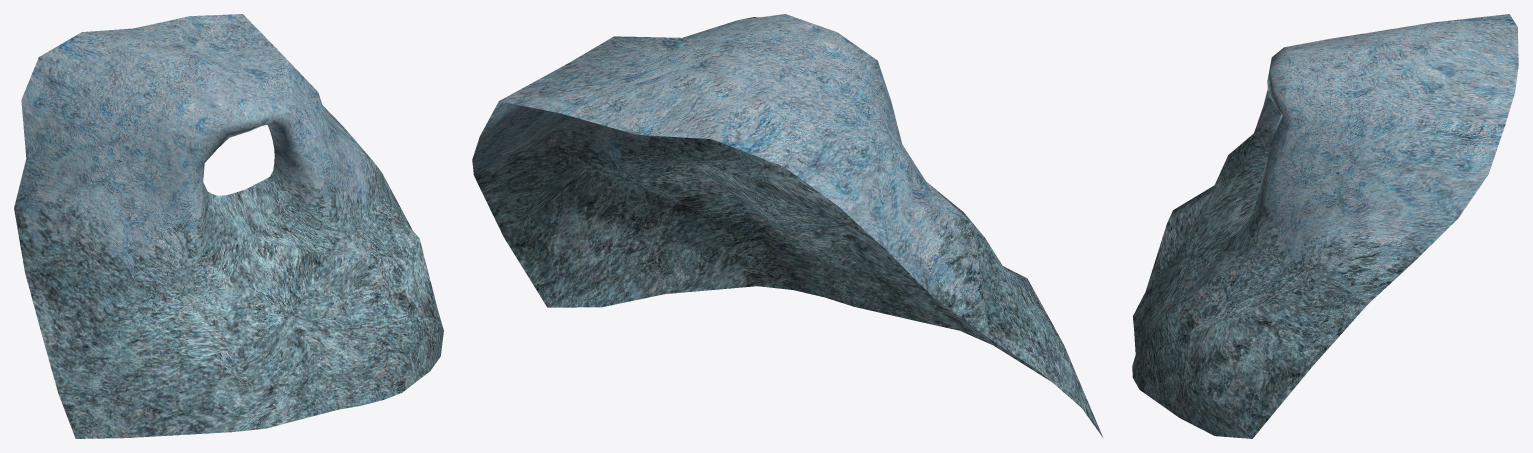
The model's file is thm_all_cave_s01_ice_r0_mesh_l2.fbx.
3 renders of one model, left to right at view 1: azimuth 30°, elevation 25°; view 2: azimuth 150°, elevation 25°; view 3: azimuth 270°, elevation 25°, orthographic. The views are drawn at different scales.
Visible parts, largest first — view 1: mesh_node; view 2: mesh_node; view 3: mesh_node.
Boxes of the visible parts, x1=… form: mesh_node: x1=14, y1=14, x2=443, y2=438; mesh_node: x1=472, y1=14, x2=1102, y2=437; mesh_node: x1=1132, y1=14, x2=1518, y2=438.
Bounding box in the file's own units: 48.32 × 34.16 × 39.34.
